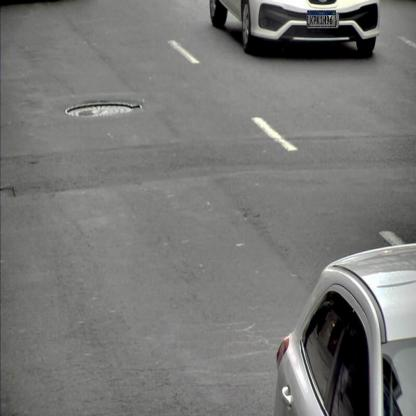PlacaM: (307, 10, 336, 27)
